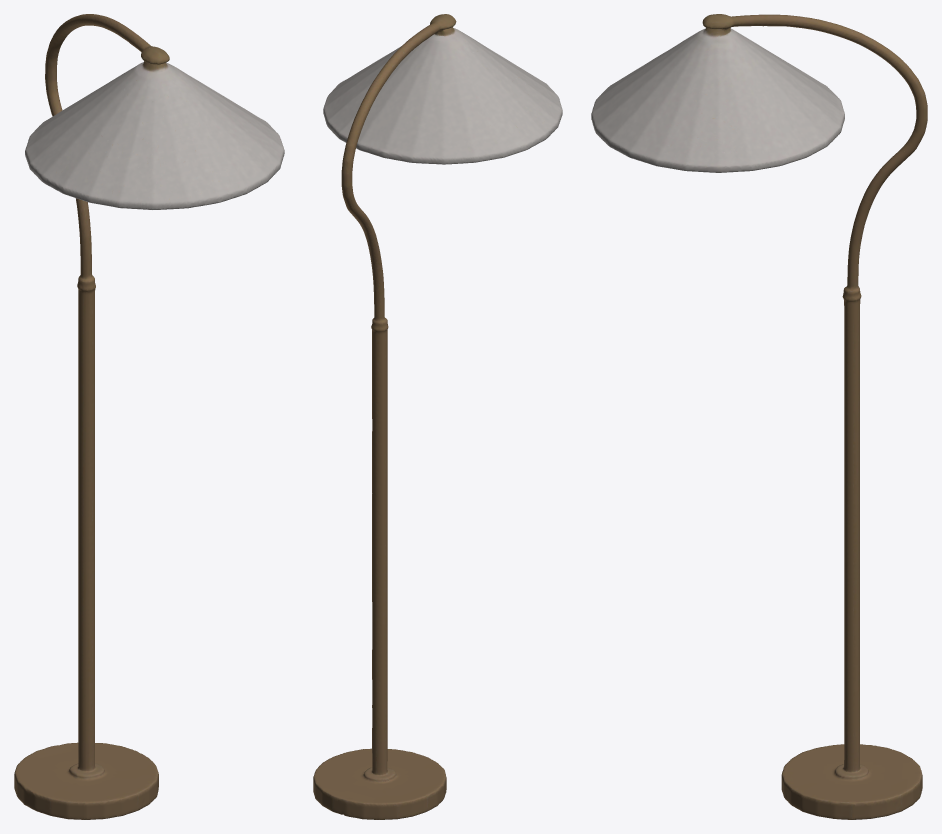
The model's file is floor-lamp-bronze-arc.glb.
The picture shows the model from 3 angles, left to right: view 1: azimuth 30°, elevation 25°; view 2: azimuth 150°, elevation 25°; view 3: azimuth 270°, elevation 25°; orthographic projection. The views are drawn at different scales.
Visible parts, largest first — view 1: world; view 2: world; view 3: world.
Boxes of the visible parts, x1,y1,x2,y2 form: world: (14,14,284,819); world: (313,14,562,819); world: (591,14,927,819).
Size of the model in its own units: 0.2981 by 1 by 0.3948.
Materials: 1 (1 with a texture image).
